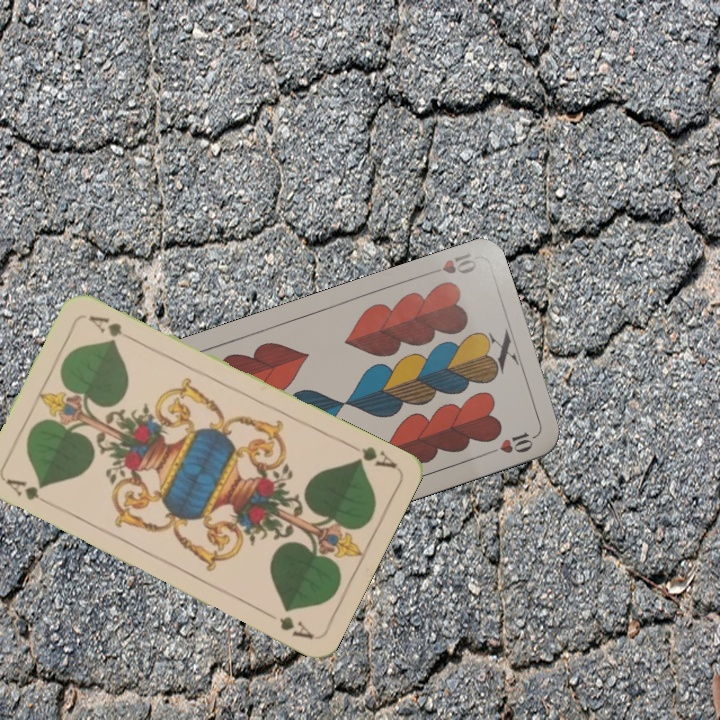GA: (2, 474, 55, 510), (343, 439, 399, 472)
H10: (421, 248, 480, 279)
